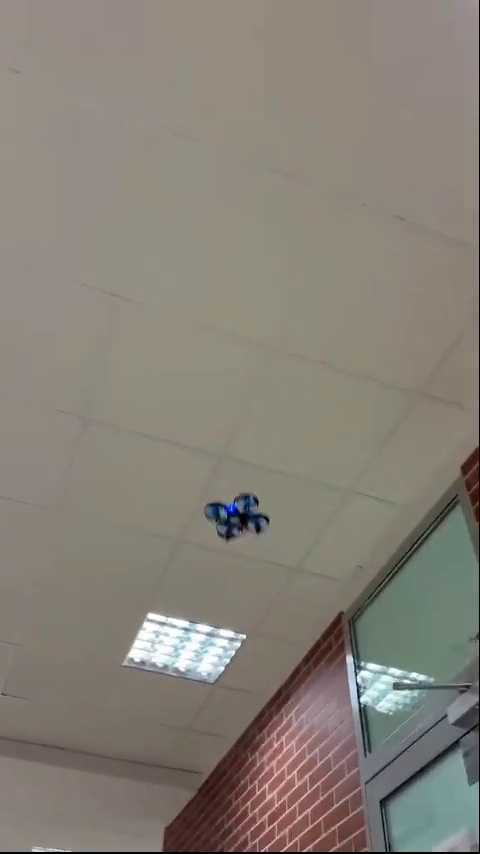drone: (206, 491, 268, 542)
